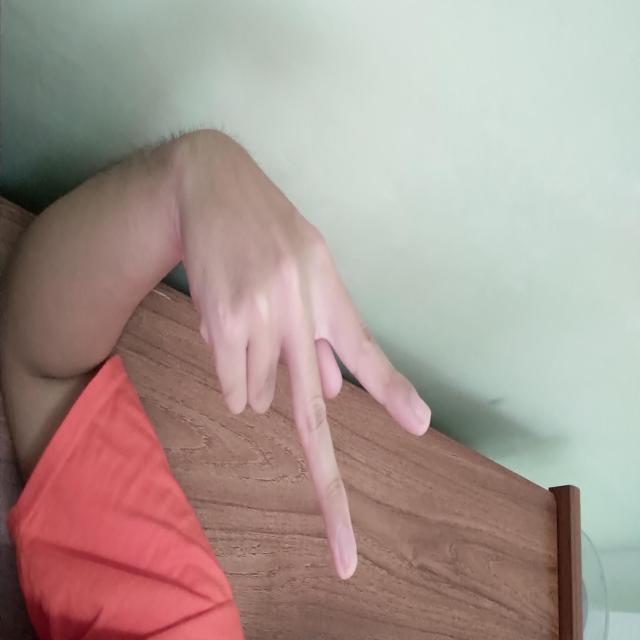K: (127, 206, 586, 462)
